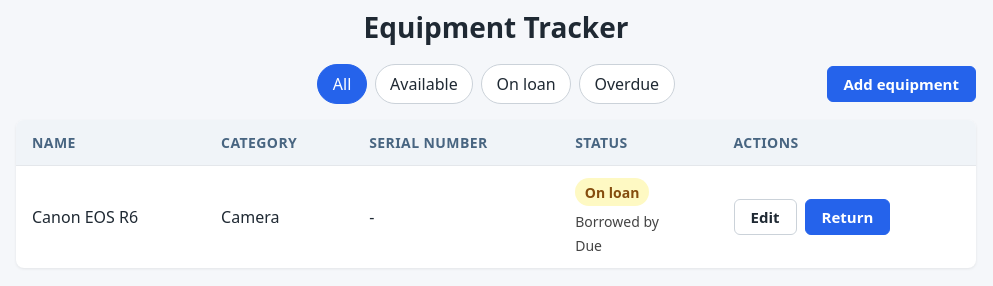
Test: App equipment list › returns an on-loan item and then shows it as available
Click the button "Return".
click(847, 217)  # box top-left (804, 199), bottom-right (890, 235)
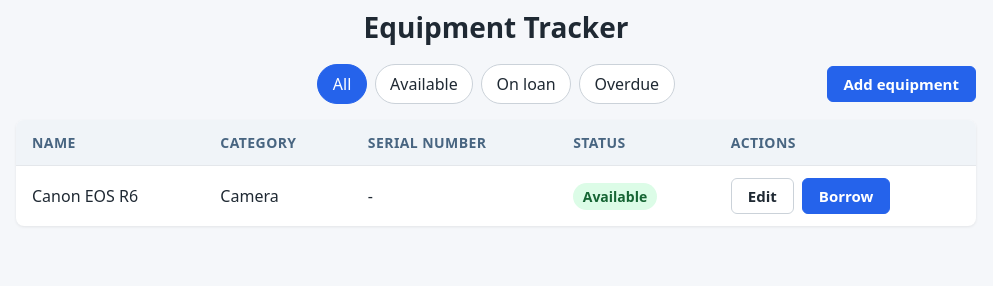
Expected: the text "Available" is shown, top-left (573, 183), bottom-right (657, 210)
